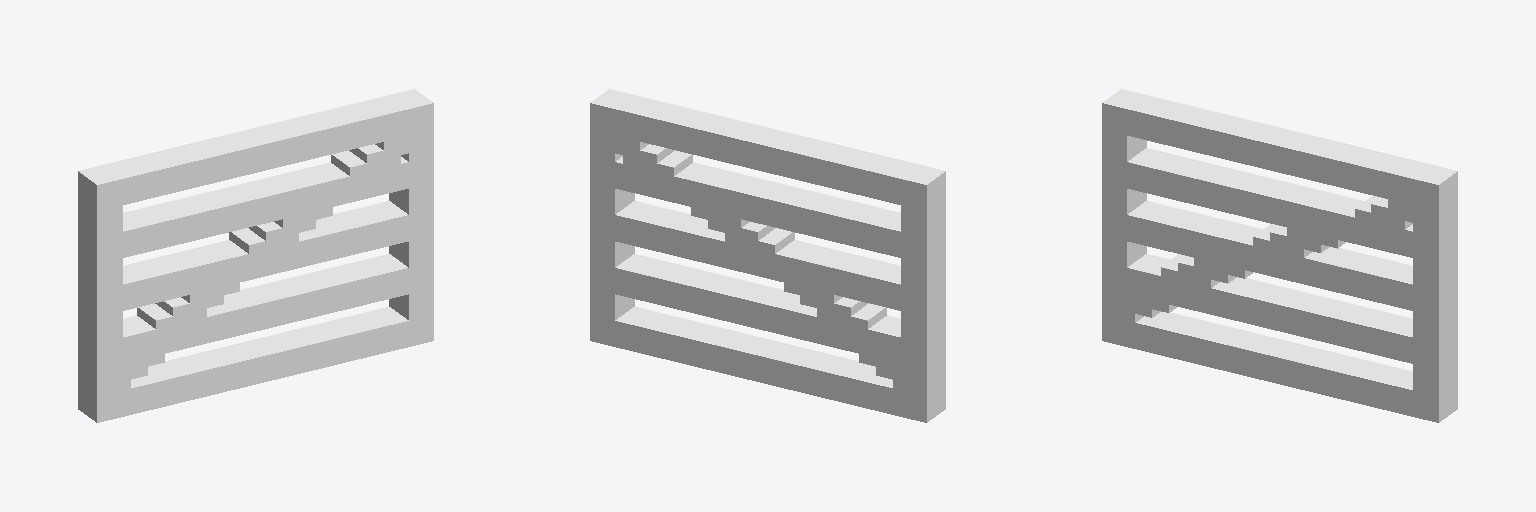
Rendered from Gartentor.obj.
The picture shows the model from 3 angles: view 1: azimuth 30°, elevation 25°; view 2: azimuth 150°, elevation 25°; view 3: azimuth 330°, elevation 25°; orthographic projection.
Visible parts, largest first — view 1: object 1; view 2: object 1; view 3: object 1.
Boxes of the visible parts, x1=… form: object 1: x1=78, y1=89, x2=433, y2=422; object 1: x1=590, y1=89, x2=945, y2=422; object 1: x1=1102, y1=89, x2=1457, y2=422.
Size of the model in its own units: 4 by 2.7 by 0.4.